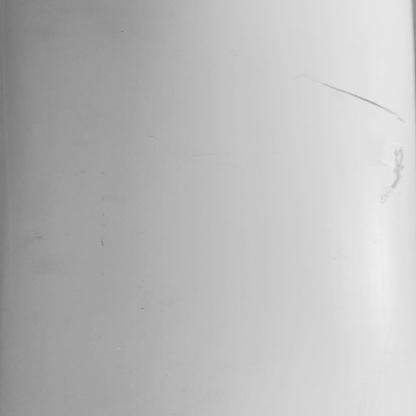sunshang: (323, 86, 410, 124), (376, 146, 409, 198)
